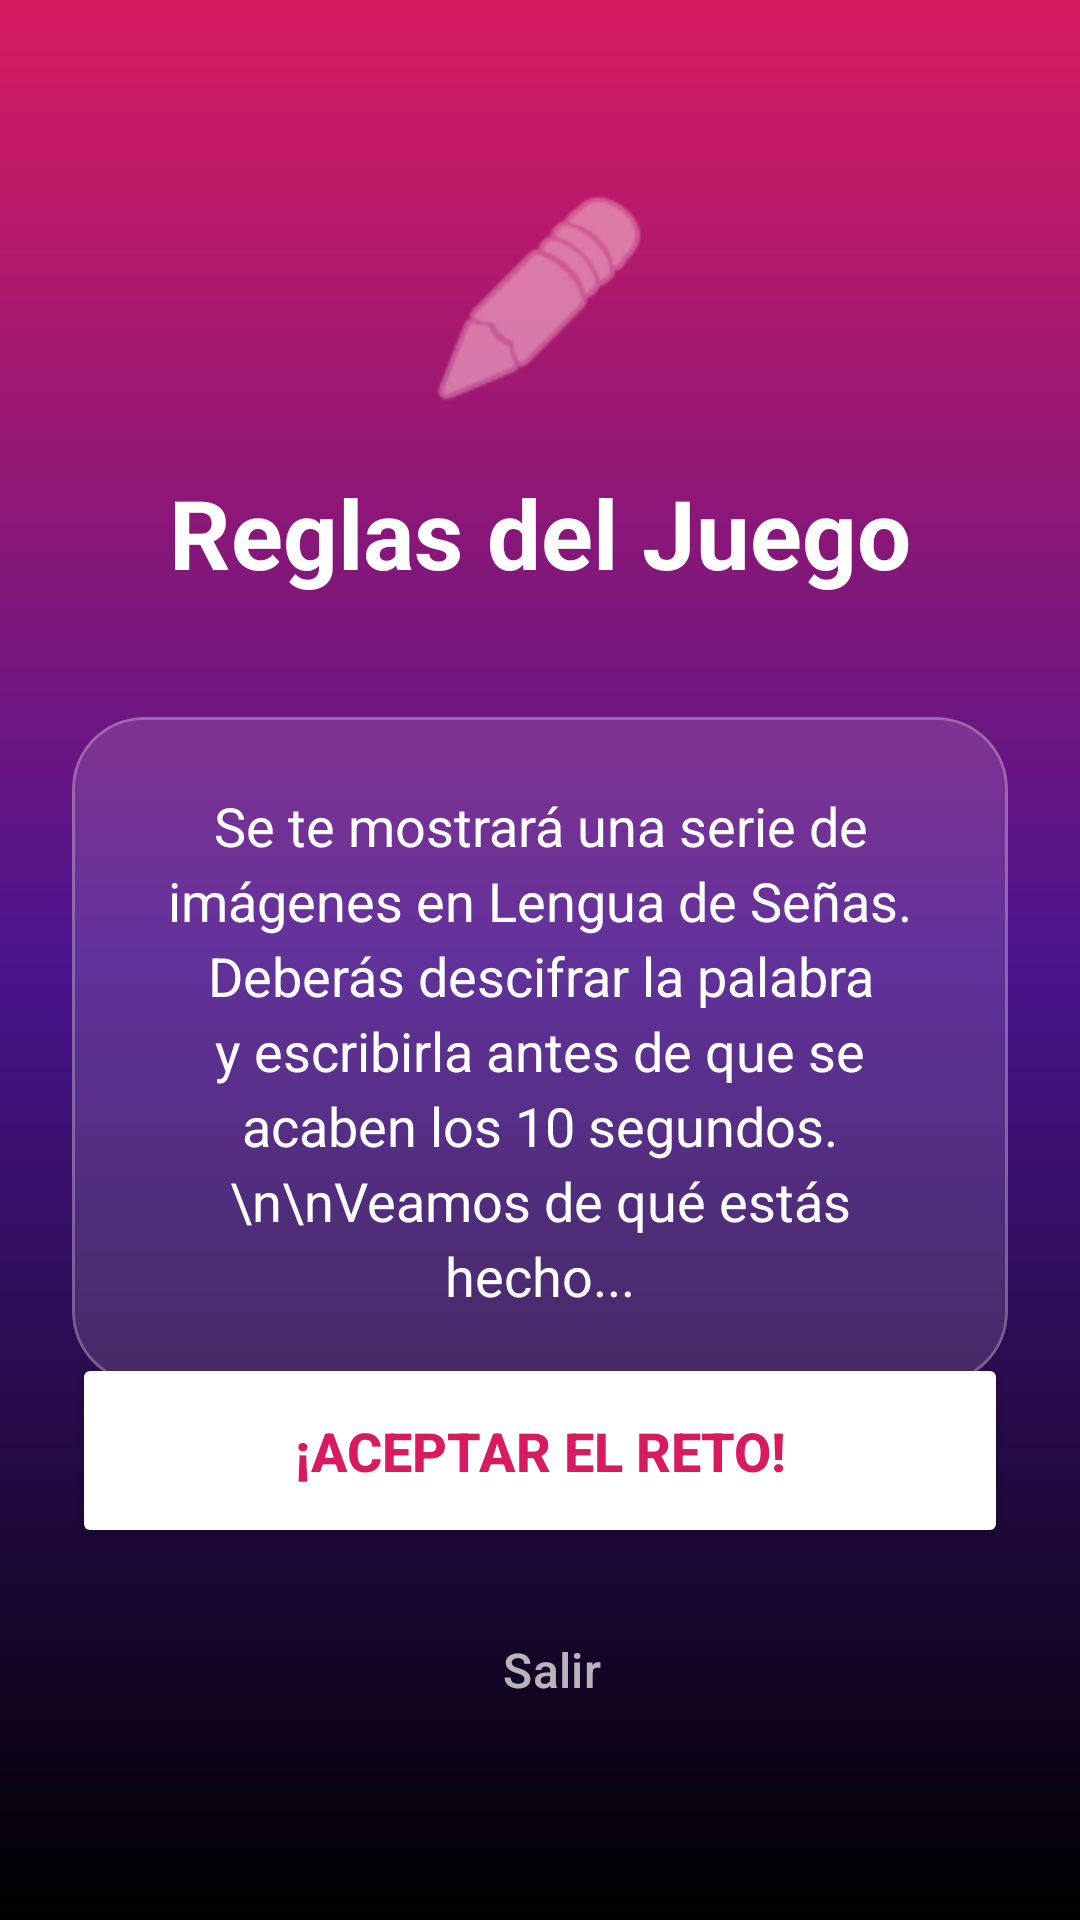

Icons on this 1080px x 1920px Android screen, each with the point to tap as point (x, y):
edit: point (540, 300)
